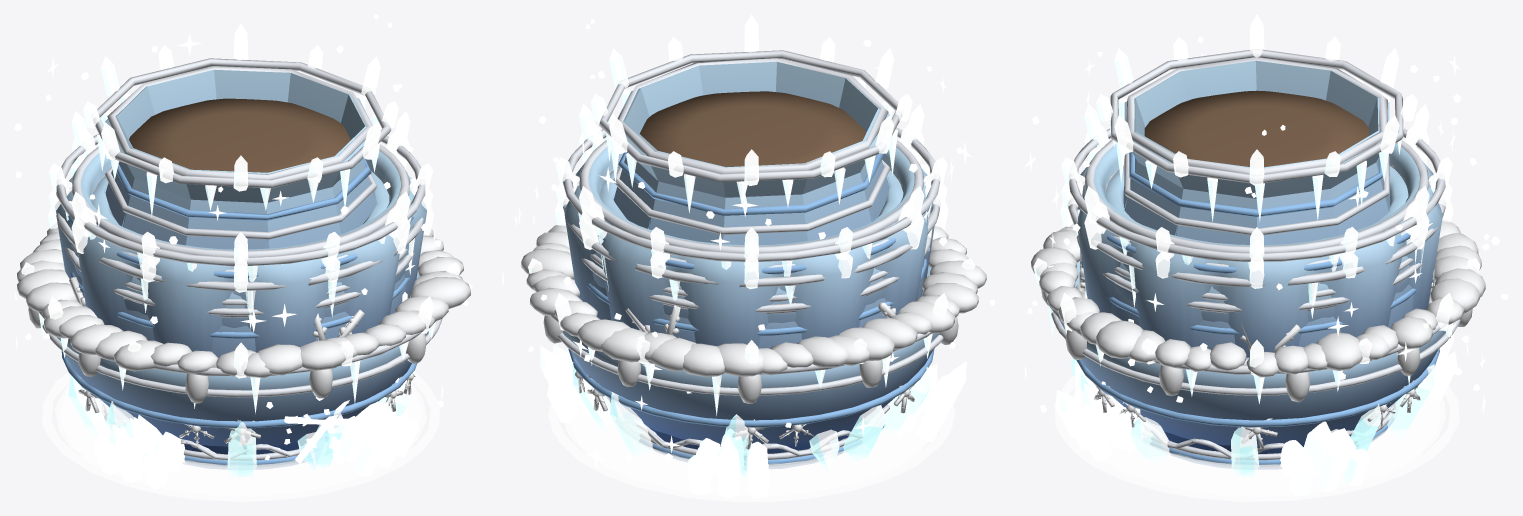
File: chau-bang-tinh.glb
3 renders of one model, left to right at view 1: azimuth 30°, elevation 25°; view 2: azimuth 150°, elevation 25°; view 3: azimuth 270°, elevation 25°, orthographic.
Parts seen in each view (by area): view 1: ChauBT_2_Than, ChauBT_5_Than, ChauBT_1_Than, ChauBT_6_Lv6, ChauBT_1_Dat, ChauBT_1_Lv6, ChauBT_5_Lv6, ChauBT_2_Lv6, ChauBT_3_Lv6, ChauBT_3_Than, ChauBT_4_Lv6, ChauBT_6_Lv4 (+15 smaller); view 2: ChauBT_2_Than, ChauBT_5_Than, ChauBT_1_Than, ChauBT_6_Lv6, ChauBT_1_Dat, ChauBT_1_Lv6, ChauBT_5_Lv6, ChauBT_3_Lv6, ChauBT_3_Than, ChauBT_6_Lv4, ChauBT_4_Lv6, ChauBT_6_Lv5 (+14 smaller); view 3: ChauBT_2_Than, ChauBT_5_Than, ChauBT_1_Than, ChauBT_6_Lv6, ChauBT_1_Dat, ChauBT_1_Lv6, ChauBT_5_Lv6, ChauBT_3_Lv6, ChauBT_3_Than, ChauBT_4_Lv6, ChauBT_2_Lv6, ChauBT_6_Lv4 (+15 smaller).
Boxes of the visible parts, box(x1,y1,x2,y2) form: ChauBT_2_Than: box(17, 223, 470, 446); ChauBT_5_Than: box(55, 144, 426, 352); ChauBT_1_Than: box(104, 66, 377, 249); ChauBT_6_Lv6: box(14, 123, 468, 501); ChauBT_1_Dat: box(129, 98, 350, 172); ChauBT_1_Lv6: box(83, 14, 402, 465); ChauBT_5_Lv6: box(16, 46, 472, 483); ChauBT_2_Lv6: box(15, 171, 460, 481); ChauBT_3_Lv6: box(55, 72, 428, 495); ChauBT_3_Than: box(68, 375, 409, 477); ChauBT_4_Lv6: box(45, 33, 419, 486); ChauBT_6_Lv4: box(60, 250, 419, 489); ChauBT_2_Than: box(521, 223, 986, 445); ChauBT_5_Than: box(564, 140, 935, 346); ChauBT_1_Than: box(612, 58, 890, 244); ChauBT_6_Lv6: box(517, 130, 962, 501); ChauBT_1_Dat: box(639, 91, 865, 167); ChauBT_1_Lv6: box(582, 14, 947, 463); ChauBT_5_Lv6: box(534, 39, 947, 483); ChauBT_3_Lv6: box(533, 70, 946, 495); ChauBT_3_Than: box(572, 362, 930, 476); ChauBT_6_Lv4: box(540, 265, 966, 498); ChauBT_4_Lv6: box(541, 66, 954, 486); ChauBT_6_Lv5: box(541, 215, 965, 491); ChauBT_2_Than: box(1031, 220, 1485, 446); ChauBT_5_Than: box(1077, 139, 1442, 357); ChauBT_1_Than: box(1123, 57, 1390, 245); ChauBT_6_Lv6: box(1052, 36, 1479, 501); ChauBT_1_Dat: box(1144, 90, 1369, 167); ChauBT_1_Lv6: box(1086, 14, 1421, 465); ChauBT_5_Lv6: box(1024, 104, 1469, 483); ChauBT_3_Lv6: box(1063, 59, 1460, 495); ChauBT_3_Than: box(1071, 357, 1434, 476); ChauBT_4_Lv6: box(1040, 52, 1474, 486); ChauBT_2_Lv6: box(1025, 151, 1508, 479); ChauBT_6_Lv4: box(1055, 264, 1457, 495).
Bounding box in the file's own units: 1.4 × 1.18 × 1.39.
